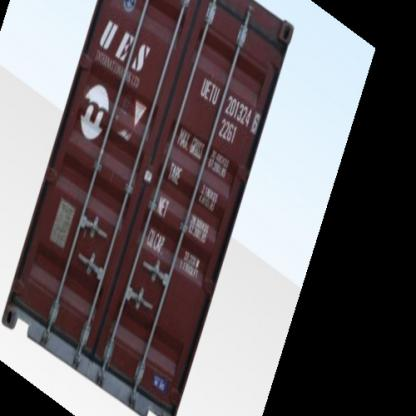Damage: (237, 13, 286, 52), (112, 86, 138, 136)
